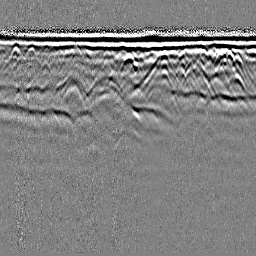cavity: (119, 52, 137, 72)
